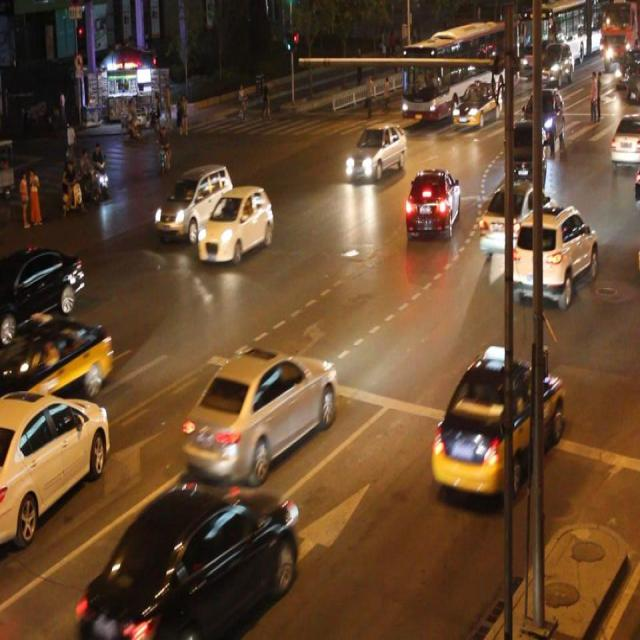car: (79, 481, 296, 640), (183, 345, 337, 482), (432, 354, 560, 491), (1, 389, 110, 540), (1, 314, 112, 399), (509, 202, 596, 299), (1, 245, 84, 324), (198, 183, 274, 260), (154, 165, 233, 238), (479, 180, 552, 253), (403, 167, 458, 241), (345, 124, 406, 179), (504, 120, 546, 191), (609, 114, 640, 160)
